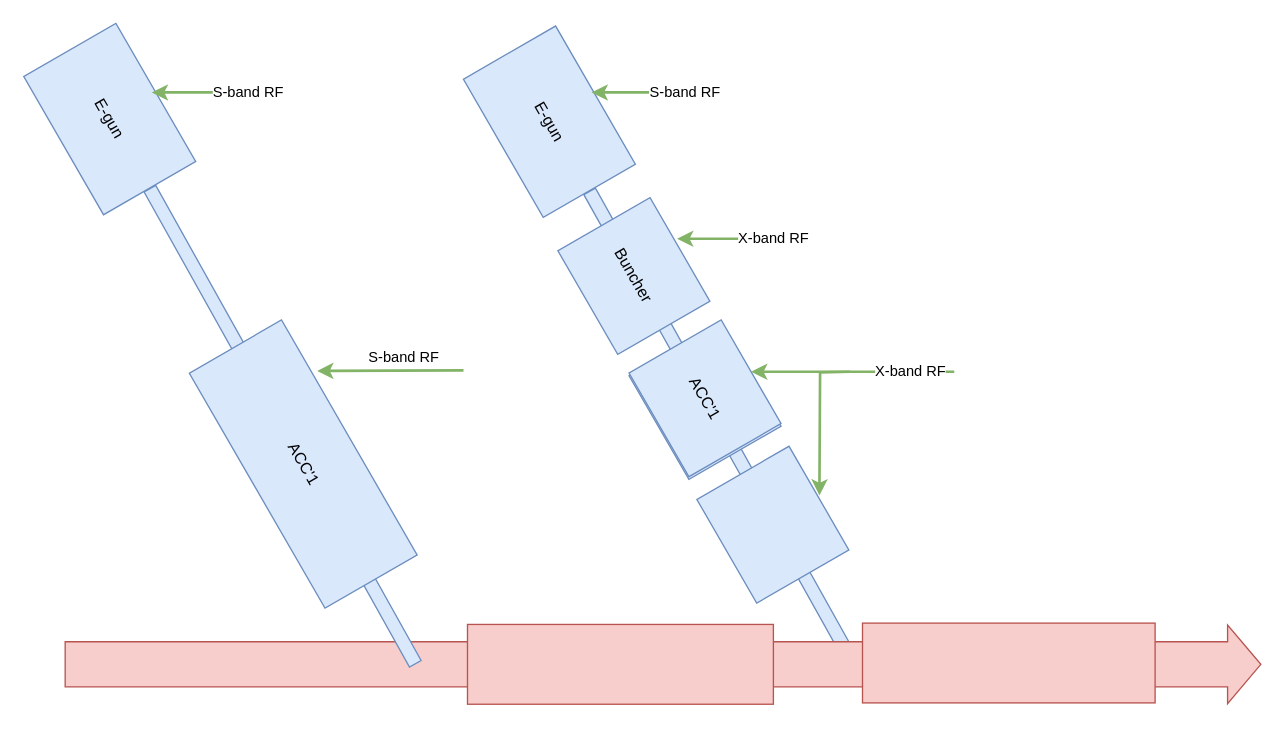
Some shapes in this 1285 by 729 pixel diagram are drawn without their labels. Here are the shapes that lost their labels. From the top down, the centre of each, then its label:
At (x=772, y=524): "ACC'2".
At (x=619, y=663): "PLASMA #1".
At (x=1008, y=662): "PLASMA #2".
